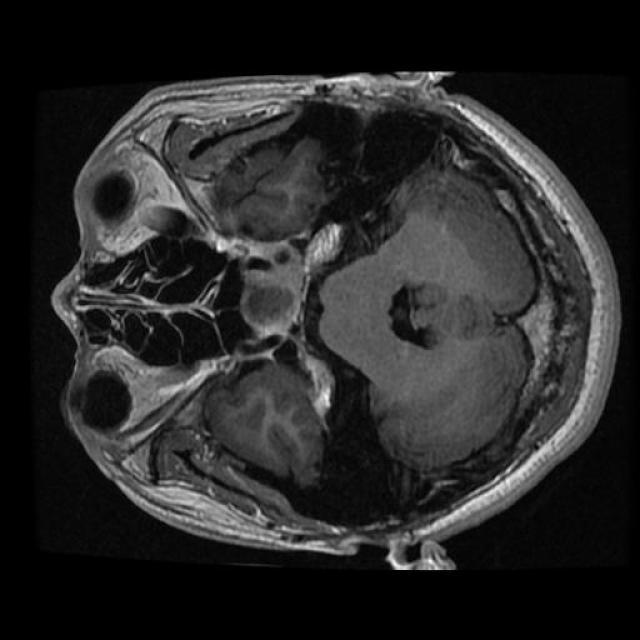Pituitary: (240, 261, 301, 338)
